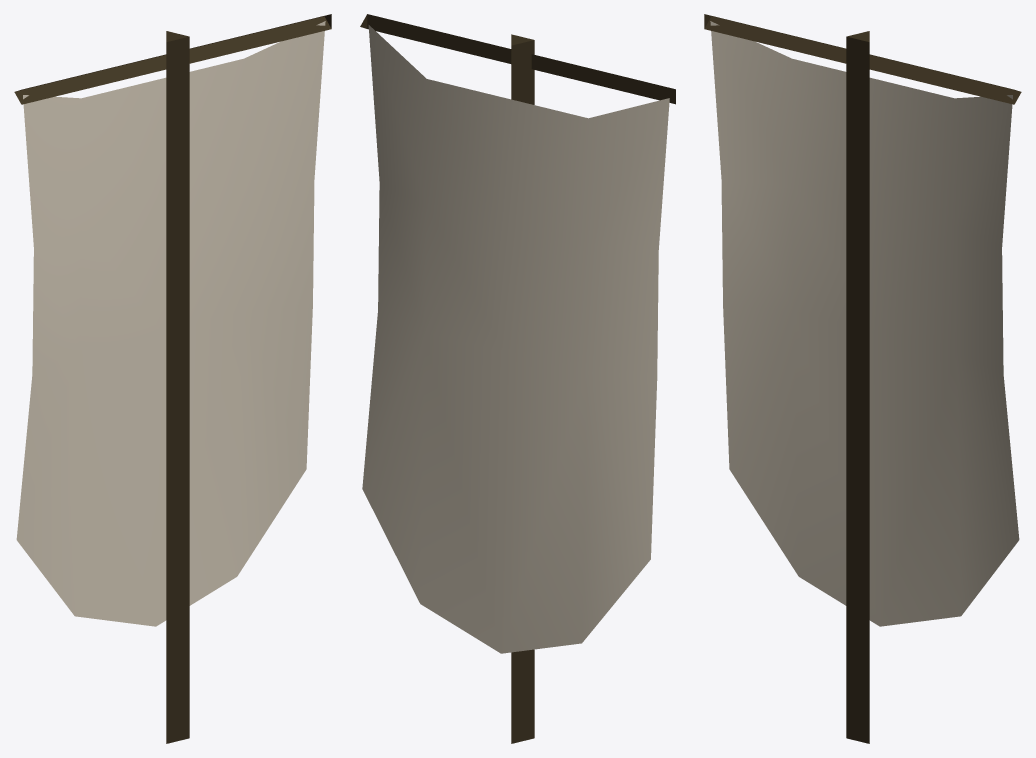
Rendered from flag.glb.
3 renders of one model, left to right at view 1: azimuth 30°, elevation 25°; view 2: azimuth 150°, elevation 25°; view 3: azimuth 330°, elevation 25°, orthographic.
Parts seen in each view (by area): view 1: banner; view 2: banner; view 3: banner.
Part boxes in pixels (<box>): banner: <box>14,14,331,743</box>; banner: <box>360,14,675,743</box>; banner: <box>704,14,1021,743</box>.
Size of the model in its own units: 0.925 by 2 by 0.1138.
